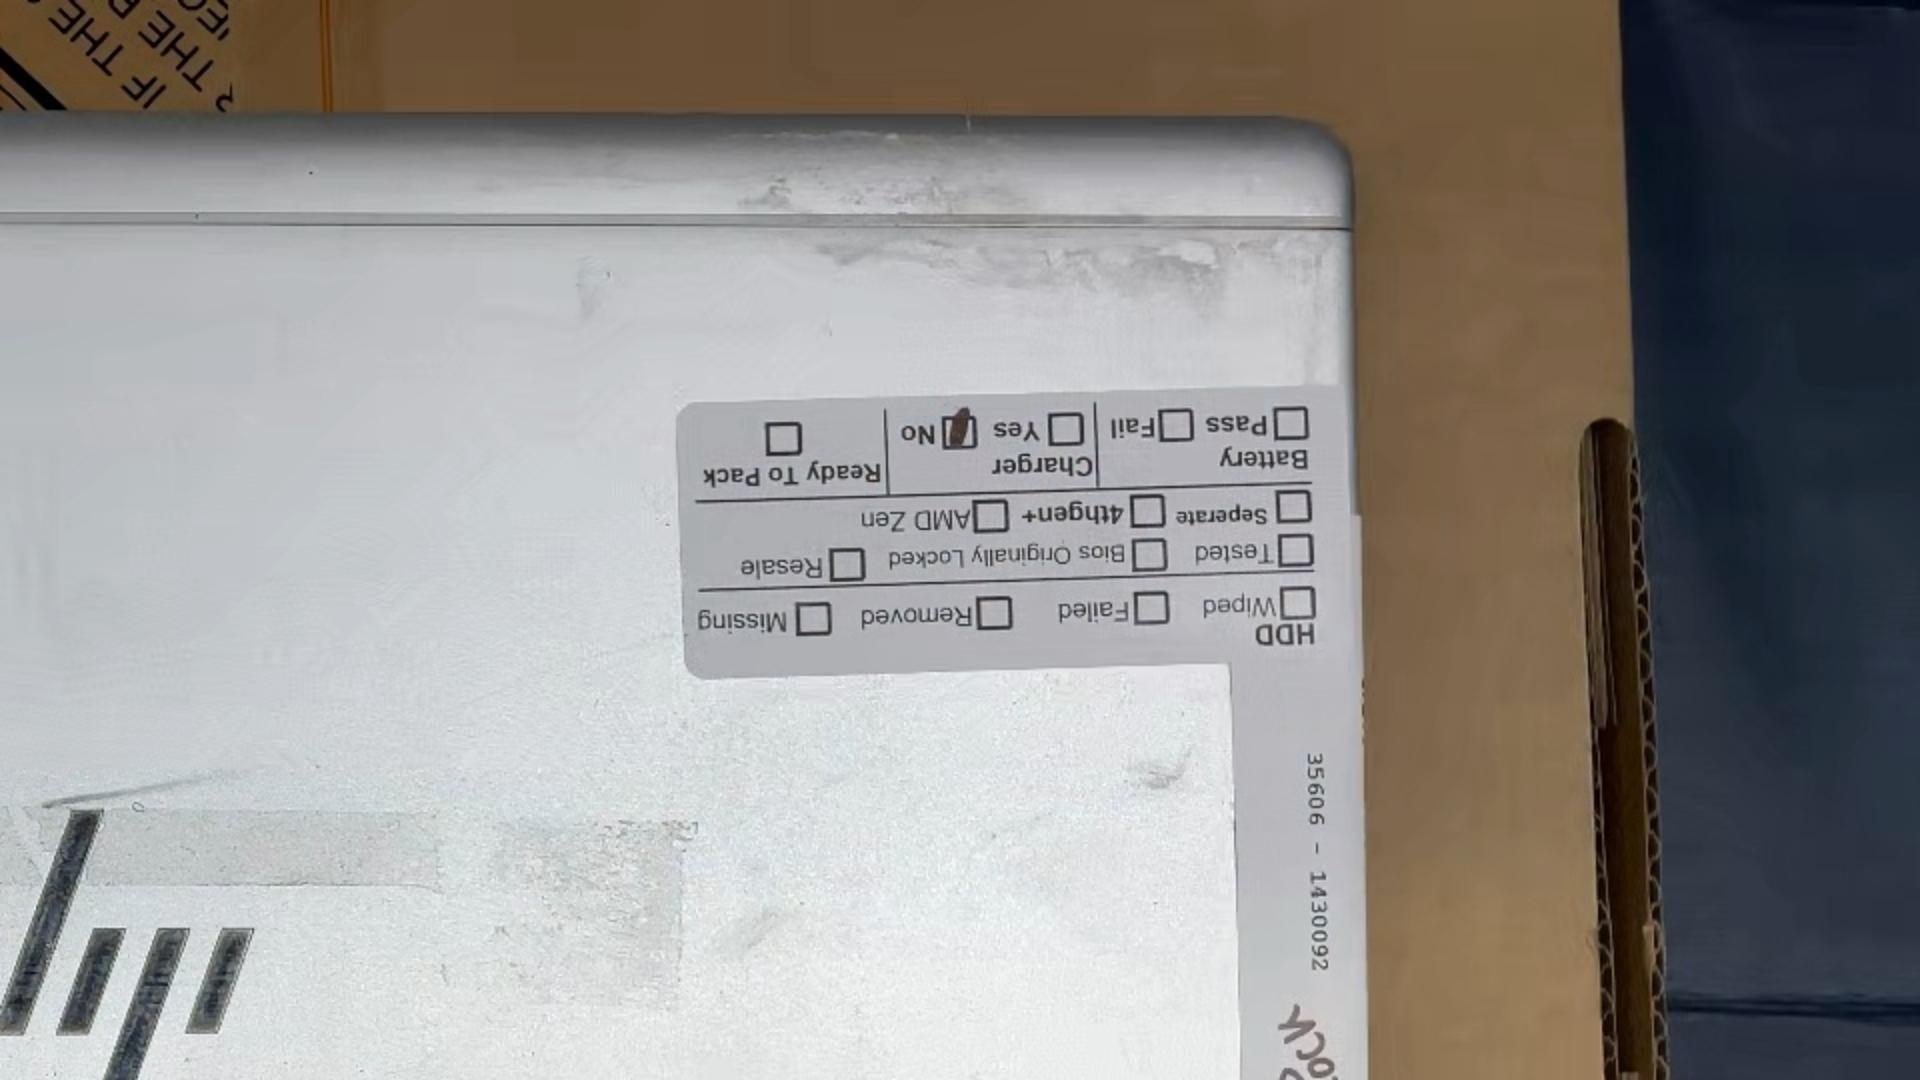scratches: (39, 767, 250, 812)
